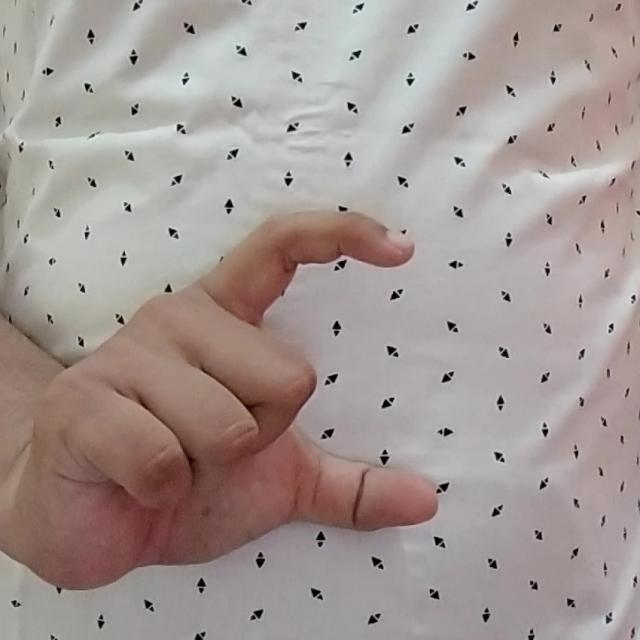C: (11, 204, 446, 589)
